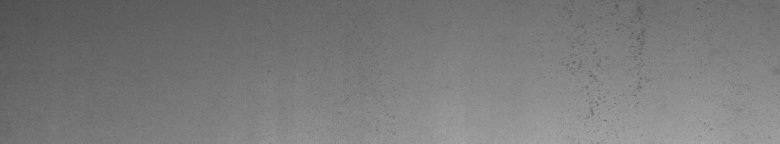ib: (568, 4, 645, 118)
